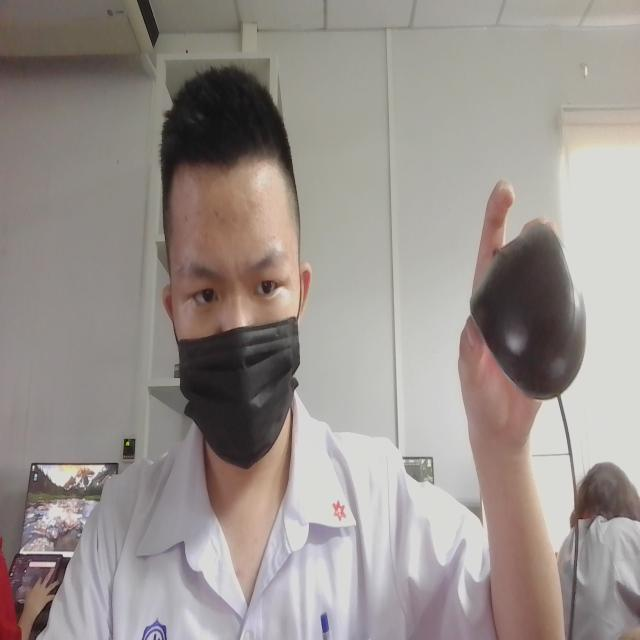mouse: (447, 202, 595, 399)
